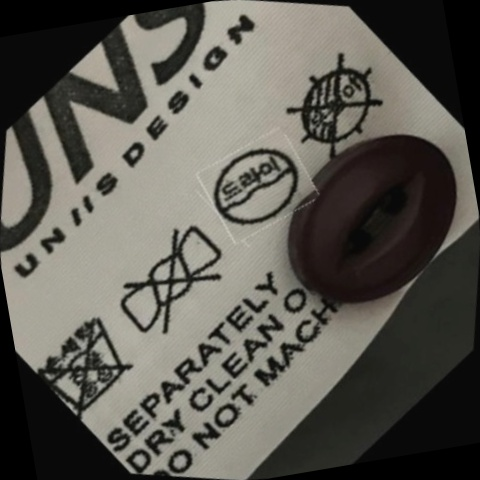DN_dry: (270, 41, 400, 172)
DN_wring: (99, 210, 245, 356)
dry_clean: (198, 127, 316, 247)
hand_wash: (26, 295, 151, 427)
